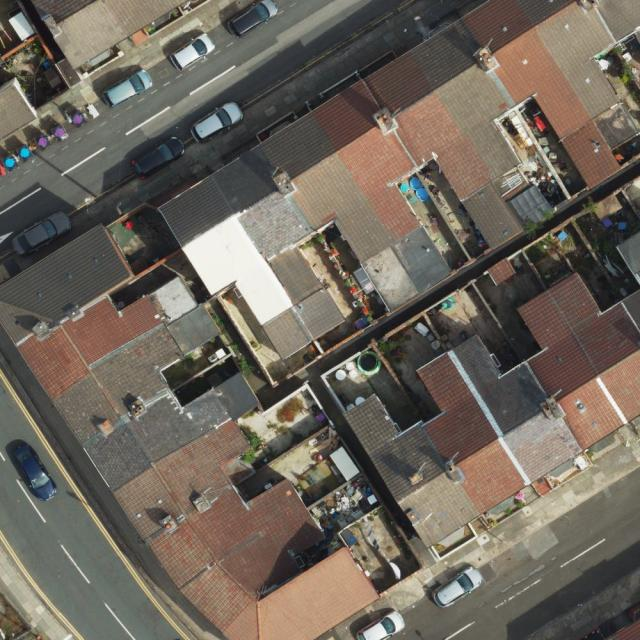roof: (159, 0, 640, 361), (0, 225, 382, 640), (344, 272, 640, 552), (29, 1, 191, 71), (0, 84, 37, 141), (608, 620, 640, 640)
